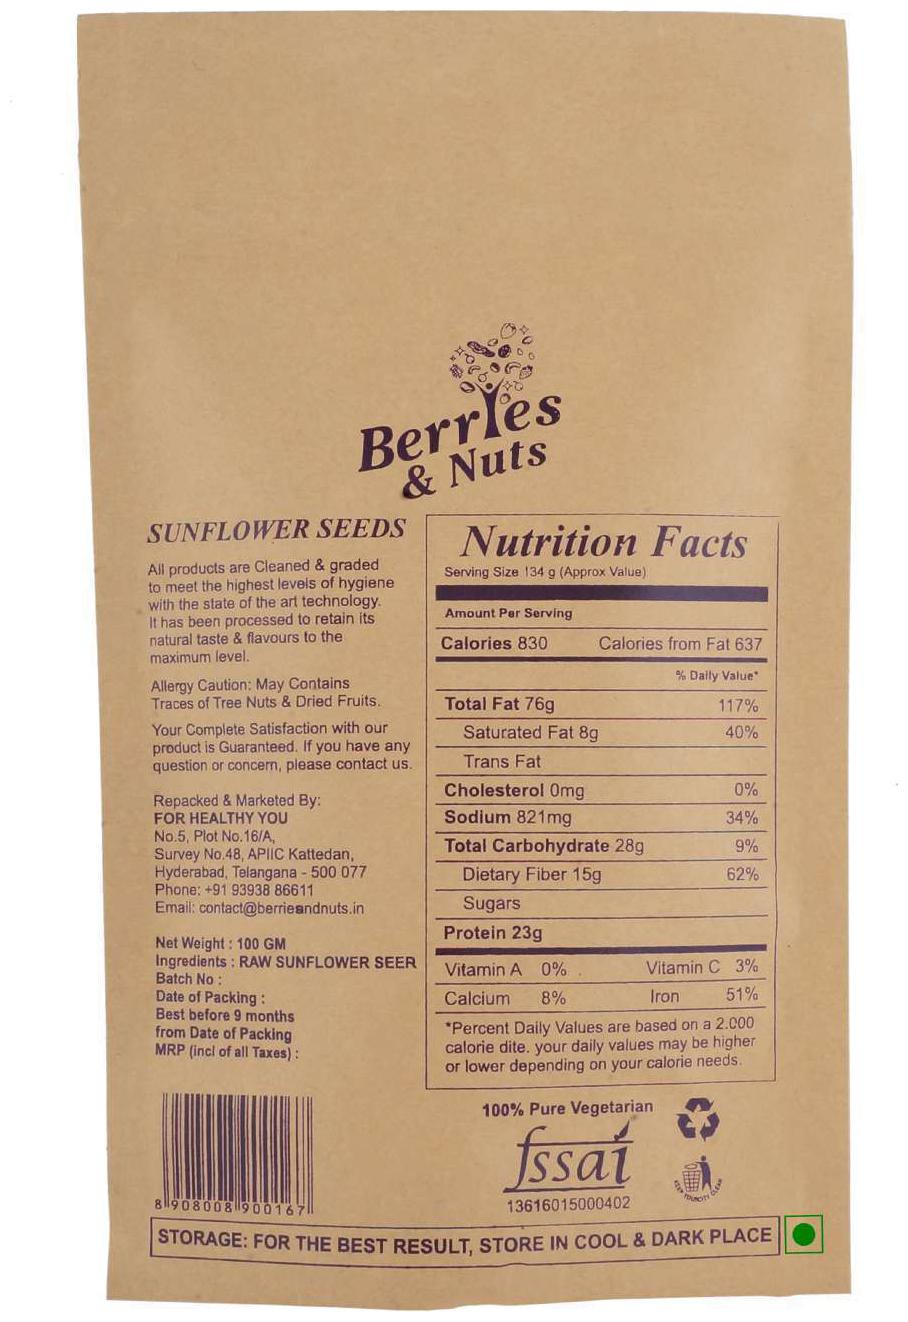fssai: (502, 1121, 642, 1195)
